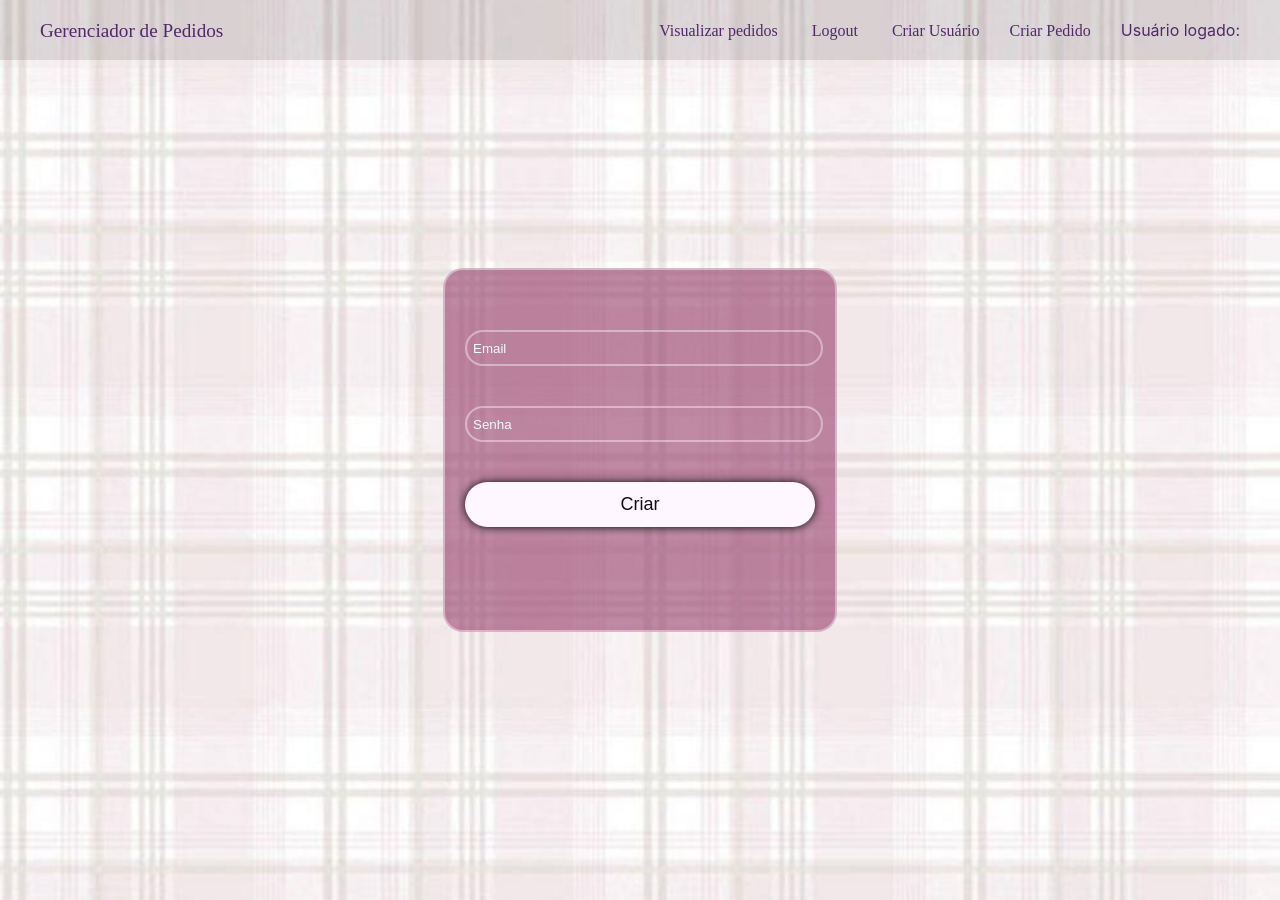
LoginFormRendering › Testa a submissão do formulário com email inexistente
This screenshot has width=1280, height=900.
Type "teste@teste.com" into the field with placeholder "Email" at [644, 348], box [465,330,823,366]
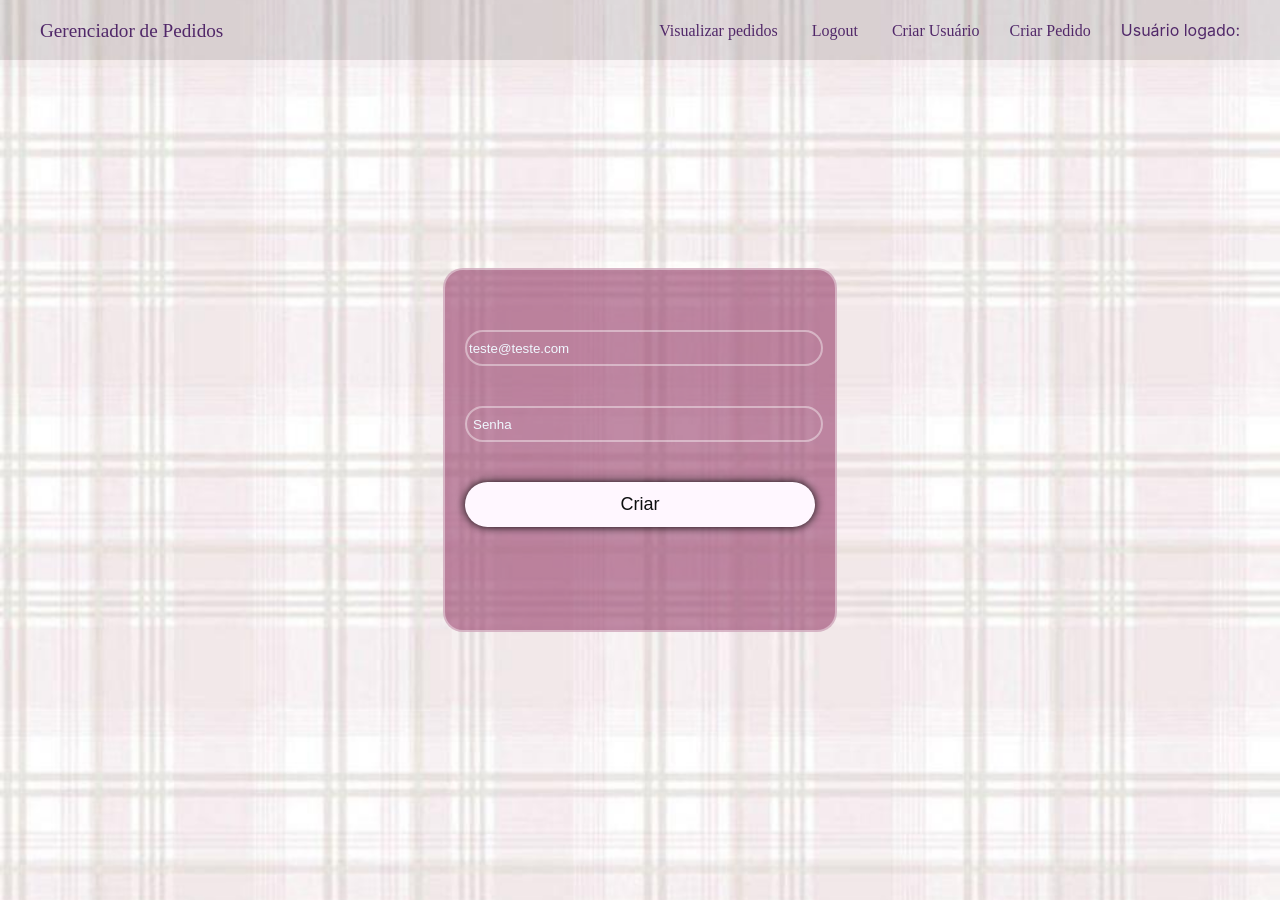
Type "password" into the field with placeholder "Senha" at [644, 424], box [465,406,823,442]
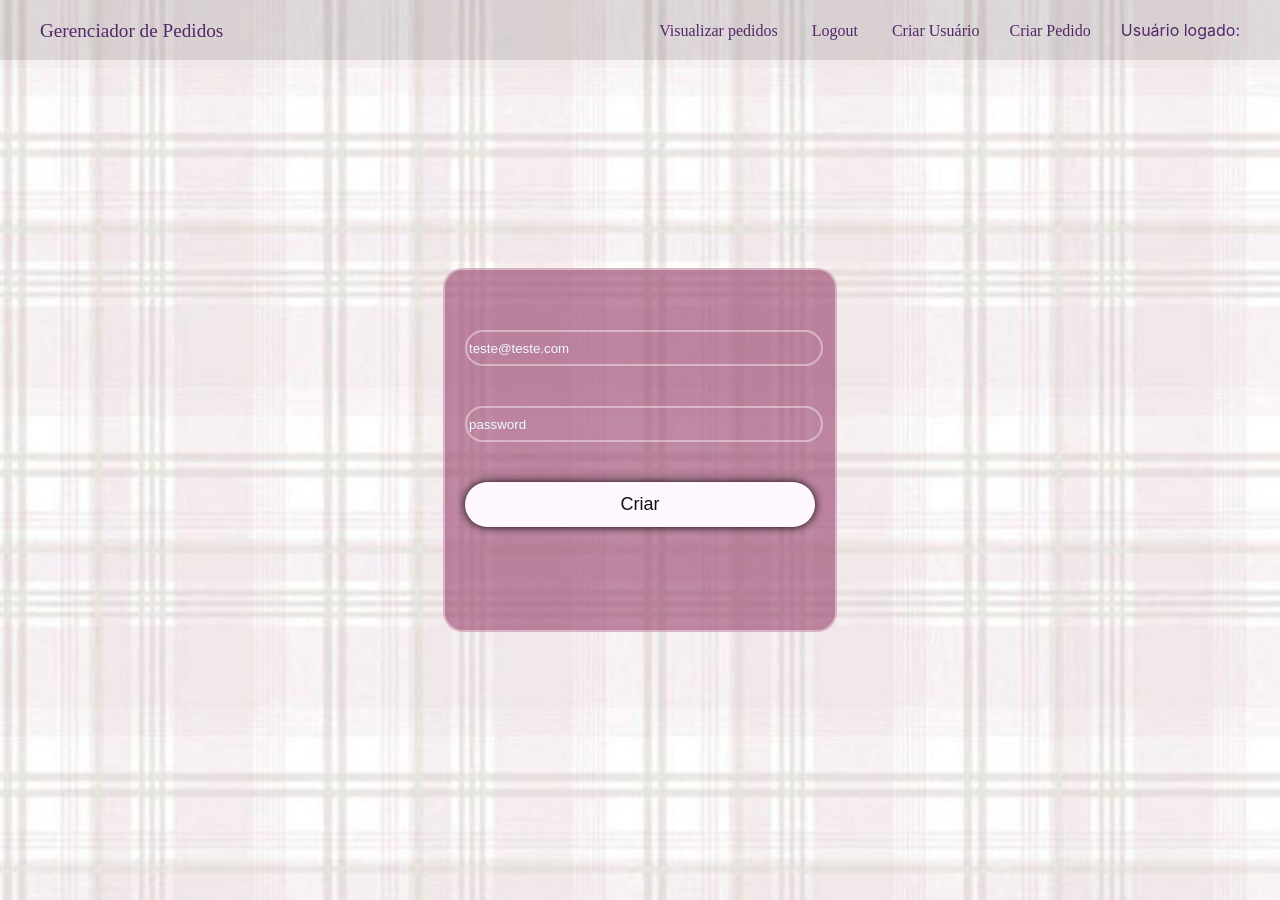
Click the button "Criar" at [640, 504], box [465,482,815,527]
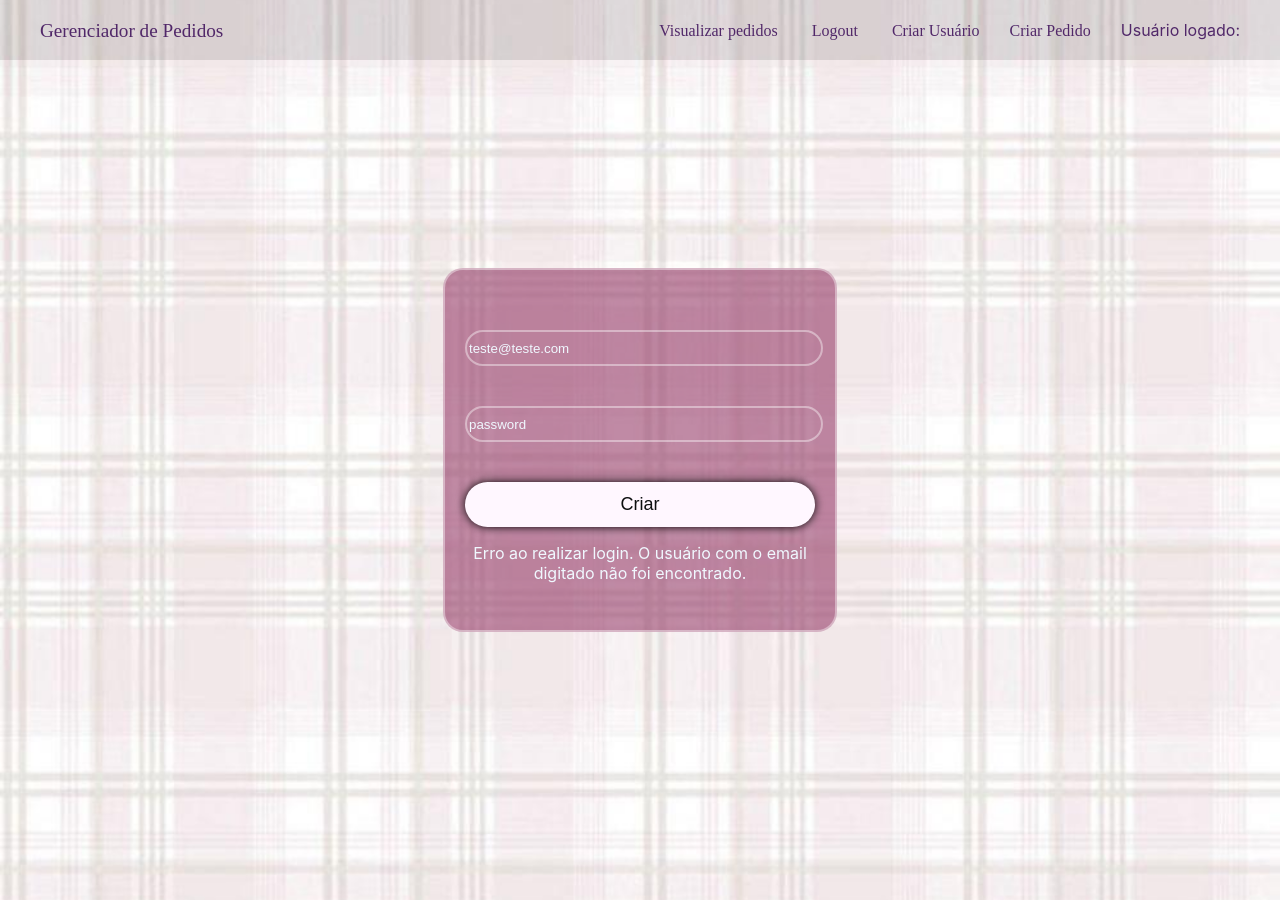
Now the text "O usuário com o email digitado não foi encontrado." is shown, box [534,543,807,583]
